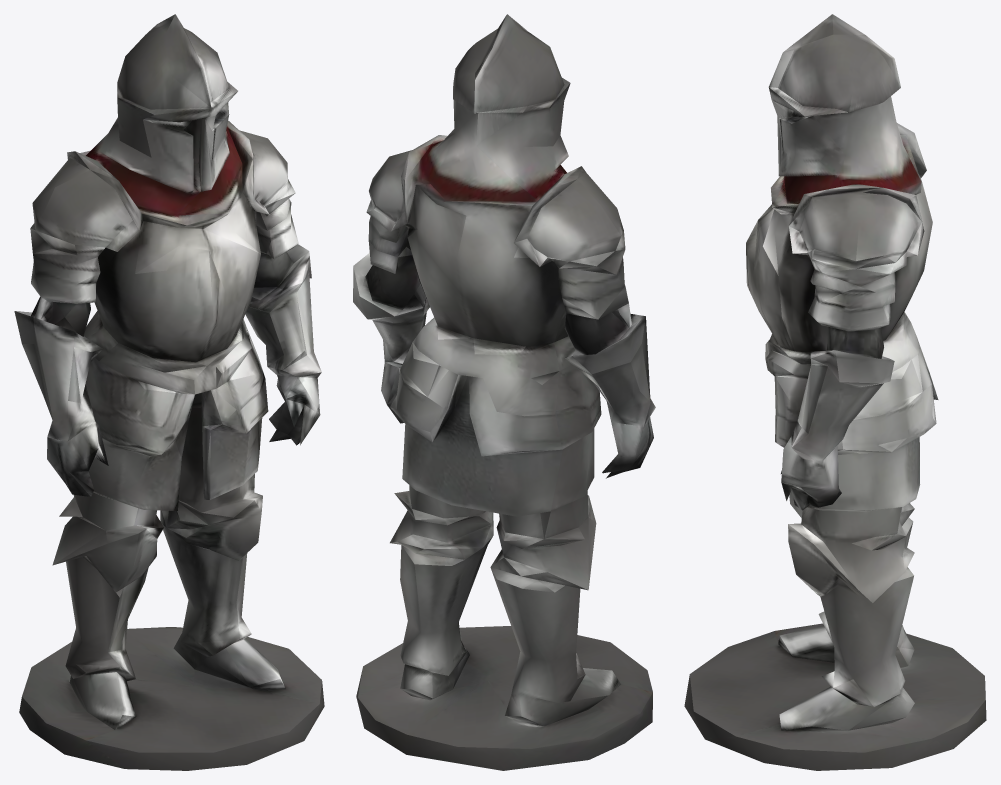
The model's file is armourStand.glb.
3 views of the same model, side by side, from view 1: azimuth 30°, elevation 25°; view 2: azimuth 150°, elevation 25°; view 3: azimuth 270°, elevation 25° (orthographic).
Visible parts, largest first — view 1: model; view 2: model; view 3: model.
Part boxes in pixels (x1,y1,x2,y2): model: (14, 14, 324, 770); model: (353, 14, 655, 770); model: (684, 14, 986, 770).
Size of the model in its own units: 0.8058 by 1.9 by 0.7495.
Materials: 1 (1 with a texture image).
